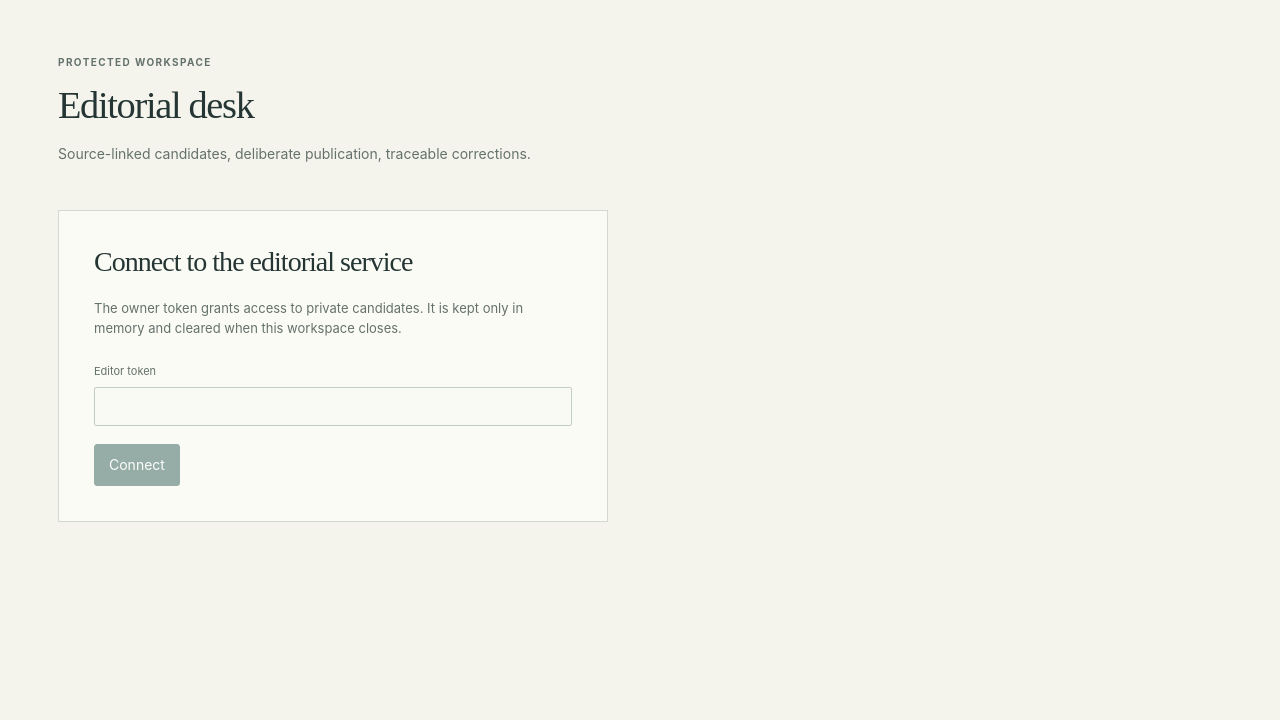
Test case: authenticated editorial contract › does not reveal the private queue after authentication rejection
Step 1. Type "invalid" into the password field labelled "Editor token" → (333, 407), box [94,387,572,426]
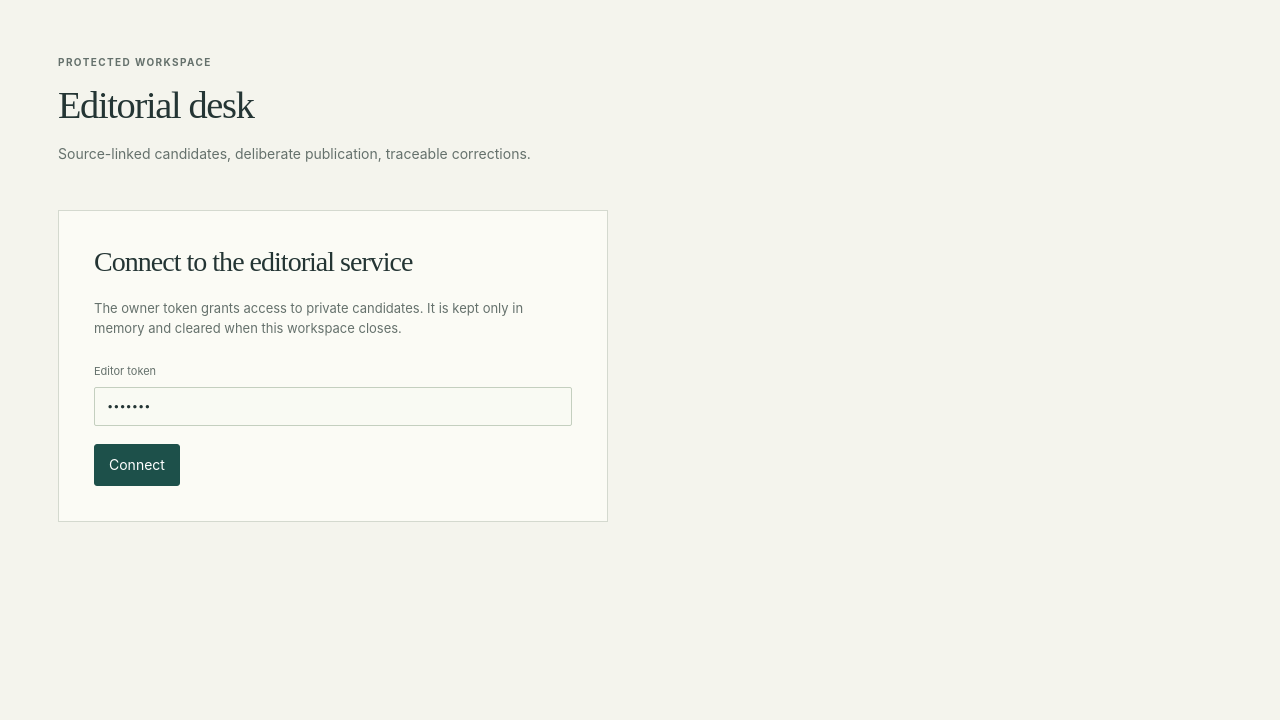
Step 2. Click the button "Connect" → (137, 465), box [94,444,180,486]
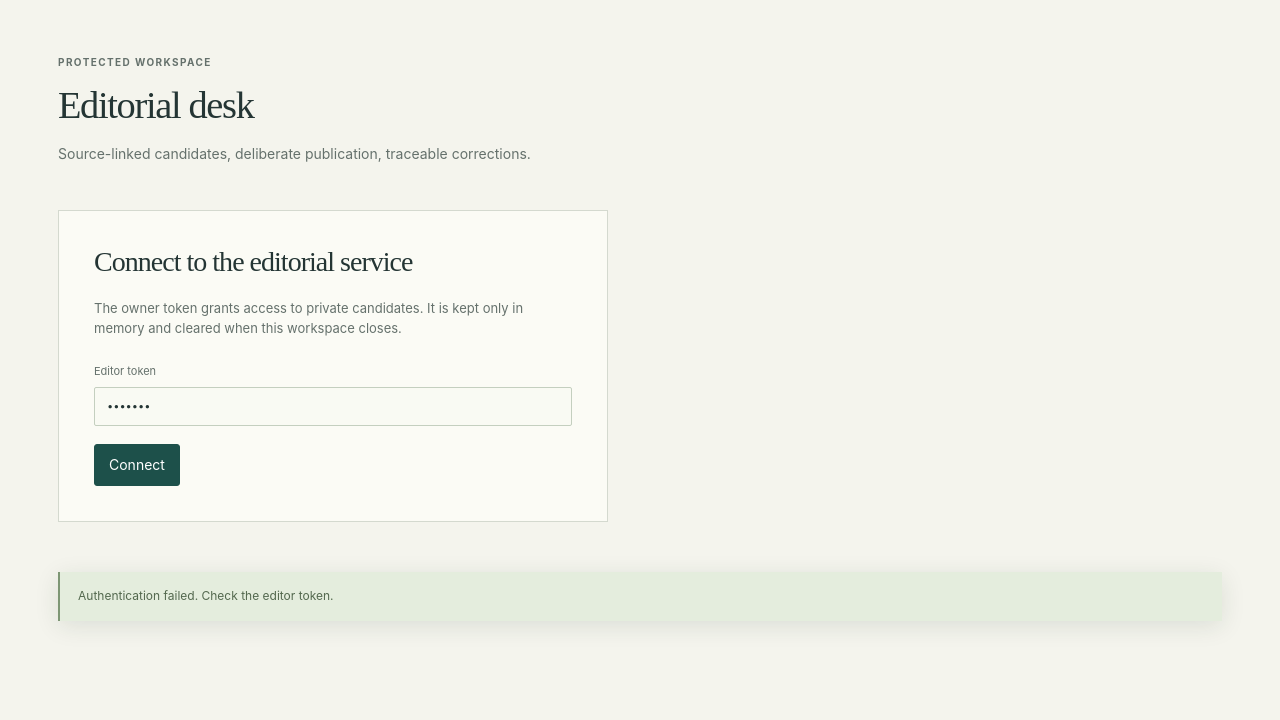
Now the text "Authentication failed. Check the editor token." is shown, box [58,572,1222,621]
